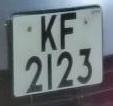1: (43, 51, 56, 93)
2: (20, 52, 47, 94), (54, 49, 76, 90)
3: (75, 45, 95, 88)
F: (58, 10, 82, 53)
K: (36, 12, 62, 55)
